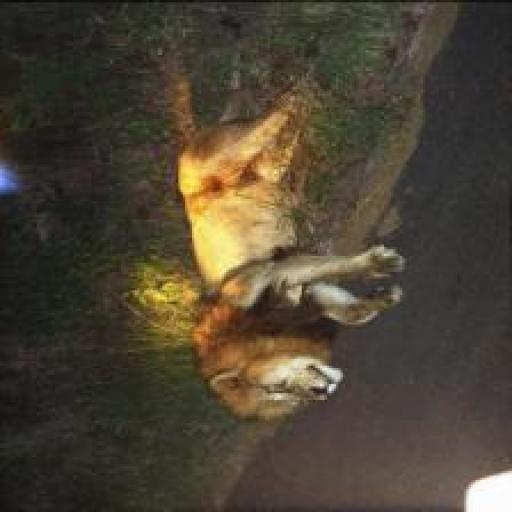lion: (171, 76, 432, 428)
